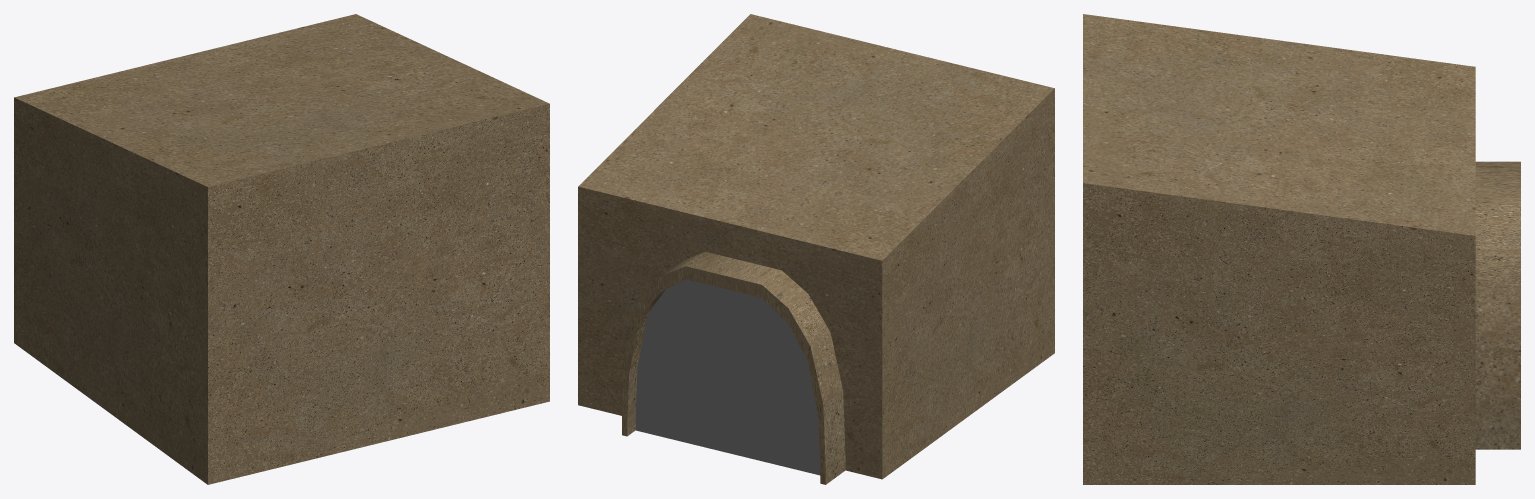
The model's file is underground entrance .fbx.
3 views of the same model, side by side, from view 1: azimuth 30°, elevation 25°; view 2: azimuth 150°, elevation 25°; view 3: azimuth 270°, elevation 25° (orthographic). The views are drawn at different scales.
Visible parts, largest first — view 1: Udg_Obj056; view 2: Udg_Obj056; view 3: Udg_Obj056.
Part boxes in pixels (x1,y1,x2,y2): Udg_Obj056: (14,14,549,484); Udg_Obj056: (578,14,1054,484); Udg_Obj056: (1083,14,1520,484).
Size of the model in its own units: 23.66 by 19.69 by 25.88.
